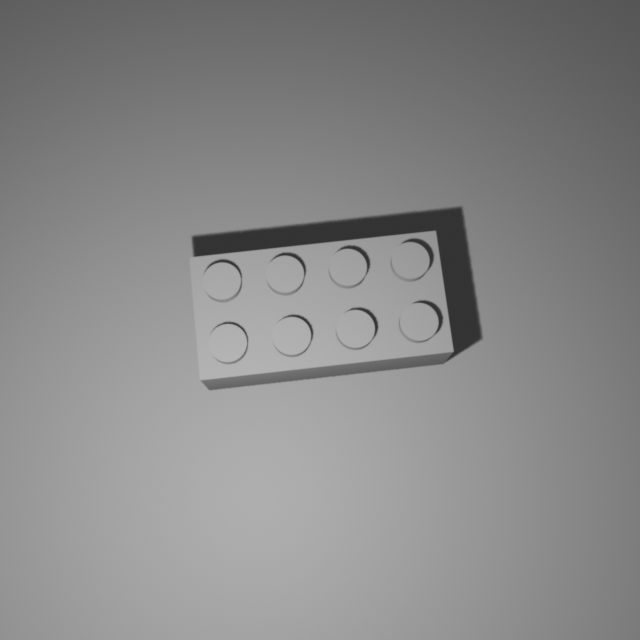lego_2x4: (188, 227, 456, 390)
